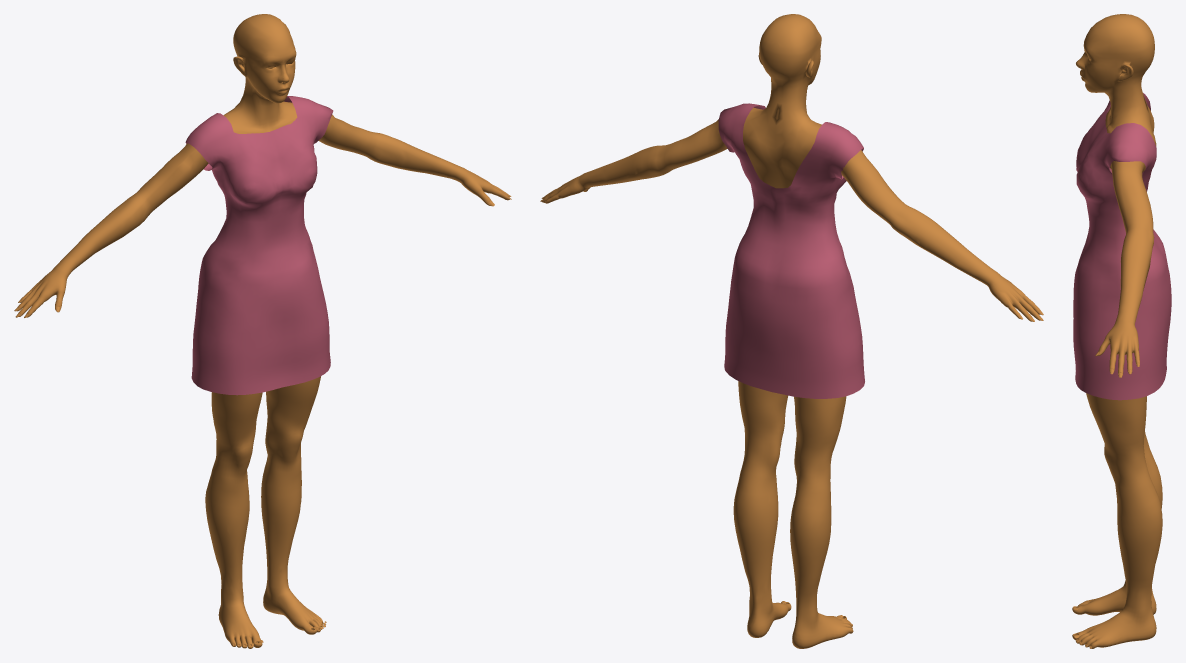
The model's file is dress7.glb.
3 renders of one model, left to right at view 1: azimuth 30°, elevation 25°; view 2: azimuth 150°, elevation 25°; view 3: azimuth 270°, elevation 25°, orthographic.
Parts seen in each view (by area): view 1: Body, Jennifer.F_Dress_01; view 2: Body, Jennifer.F_Dress_01; view 3: Body, Jennifer.F_Dress_01.
Part boxes in pixels (x1,y1,x2,y2): Body: (17,14,511,648); Jennifer.F_Dress_01: (185,96,333,395); Body: (541,14,1041,648); Jennifer.F_Dress_01: (718,103,864,398); Body: (1072,14,1162,648); Jennifer.F_Dress_01: (1073,93,1171,400).
Bounding box in the file's own units: 1.58 × 1.85 × 0.2723.
